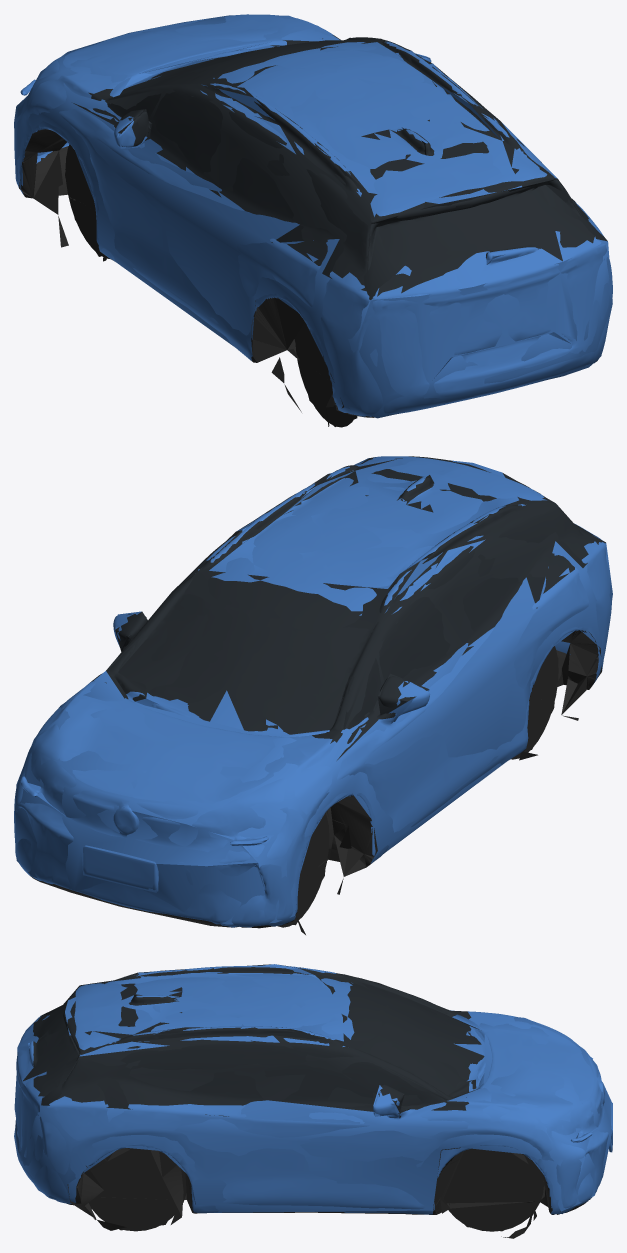
File: volkswagen-id-4.glb
3 renders of one model, top to bottom at view 1: azimuth 30°, elevation 25°; view 2: azimuth 150°, elevation 25°; view 3: azimuth 270°, elevation 25°, orthographic. The views are drawn at different scales.
Visible parts, largest first — view 1: body, far; view 2: body, far; view 3: body, far.
Boxes of the visible parts, bbox=[...] form: body: bbox=[14, 14, 612, 427]; far: bbox=[14, 15, 612, 426]; body: bbox=[14, 456, 611, 934]; far: bbox=[15, 458, 612, 927]; body: bbox=[15, 965, 612, 1238]; far: bbox=[14, 964, 612, 1237].
Size of the model in its own units: 2.16 by 1.7 by 4.59.
